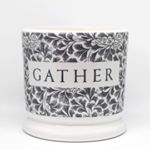cups: (15, 23, 134, 142)
